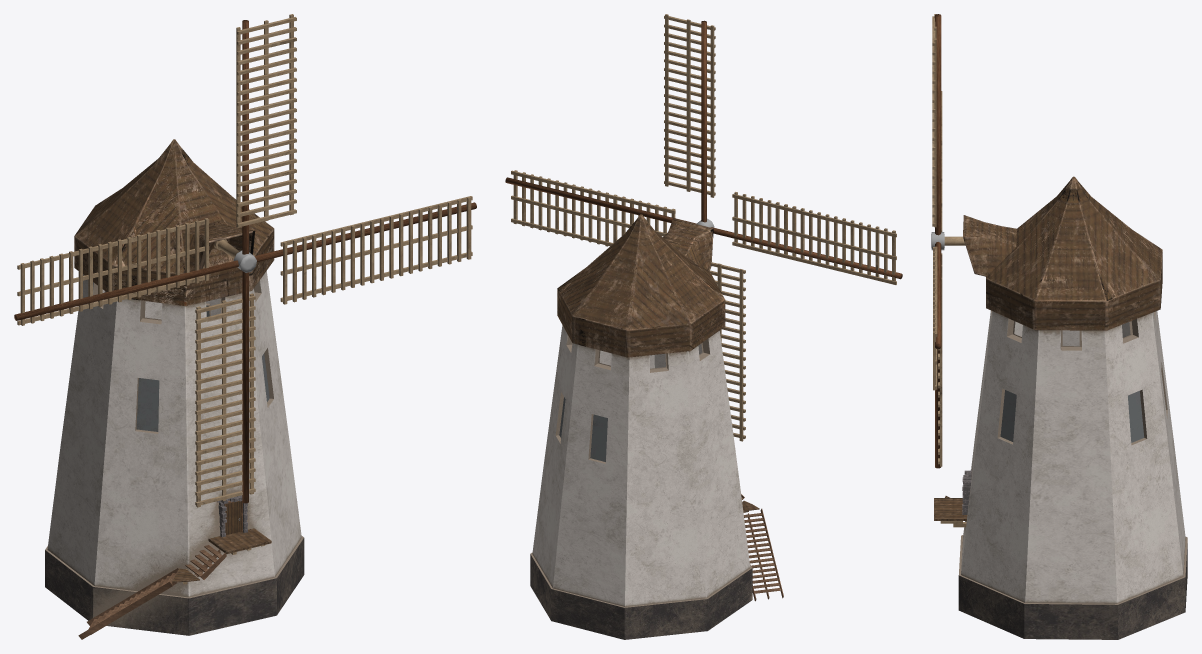
The model's file is old_windmill_low_poly.glb.
3 views of the same model, side by side, from view 1: azimuth 30°, elevation 25°; view 2: azimuth 150°, elevation 25°; view 3: azimuth 270°, elevation 25° (orthographic). The views are drawn at different scales.
Parts seen in each view (by area): view 1: Cube, Cube.001, Cube.049, Cube.048, Cube.051, Cube.050, Cylinder.002, Cylinder.001, Cube.010, Cube.004, Cube.005; view 2: Cube, Cube.001, Cube.051, Cube.048, Cube.049, Cube.050, Cylinder.002, Cube.005, Cylinder.001; view 3: Cube, Cube.001, Cylinder.001, Cube.048, Cube.050, Cube.004, Cube.049, Cylinder.002, Cylinder.
Part boxes in pixels (x1,y1,x2,y2): Cube: (45, 271, 304, 635); Cube.001: (74, 139, 274, 306); Cube.049: (280, 196, 472, 304); Cube.048: (236, 14, 296, 227); Cube.051: (17, 218, 209, 325); Cube.050: (195, 293, 255, 507); Cylinder.002: (14, 202, 476, 320); Cylinder.001: (242, 20, 248, 503); Cube.010: (78, 549, 226, 639); Cube.004: (172, 528, 271, 582); Cube.005: (88, 545, 222, 629); Cube: (530, 325, 752, 639); Cube.001: (557, 214, 725, 357); Cube.051: (732, 192, 896, 284); Cube.048: (664, 14, 715, 197); Cube.049: (511, 170, 675, 246); Cube.050: (709, 262, 745, 441); Cylinder.002: (505, 177, 902, 279); Cube.005: (741, 497, 781, 593); Cylinder.001: (701, 20, 706, 222); Cube: (958, 310, 1187, 639); Cube.001: (963, 176, 1162, 330); Cylinder.001: (935, 14, 941, 468); Cube.048: (932, 14, 936, 227); Cube.050: (938, 253, 942, 466); Cube.004: (934, 497, 967, 520); Cube.049: (933, 246, 937, 390); Cylinder.002: (935, 242, 941, 349); Cylinder: (931, 232, 965, 250).
Size of the model in its own units: 281 by 360 by 145.
Materials: 12 (12 with a texture image).
